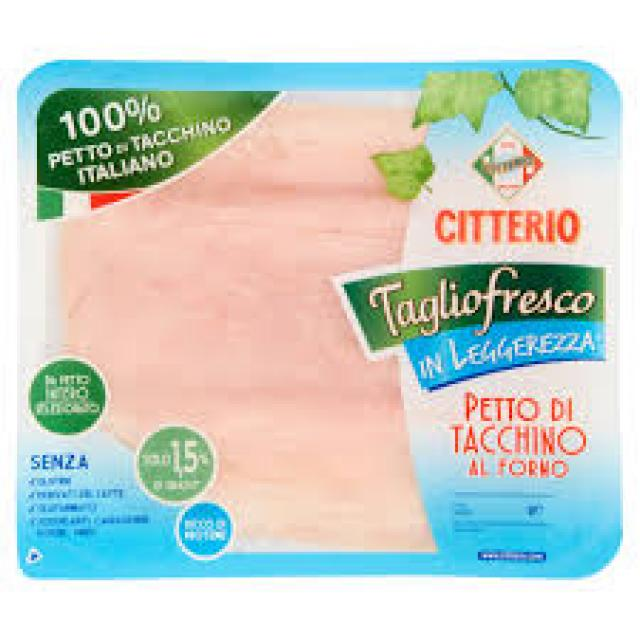Ham: (11, 53, 626, 578)
